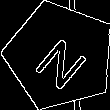N_NE: (27, 24, 92, 88)
